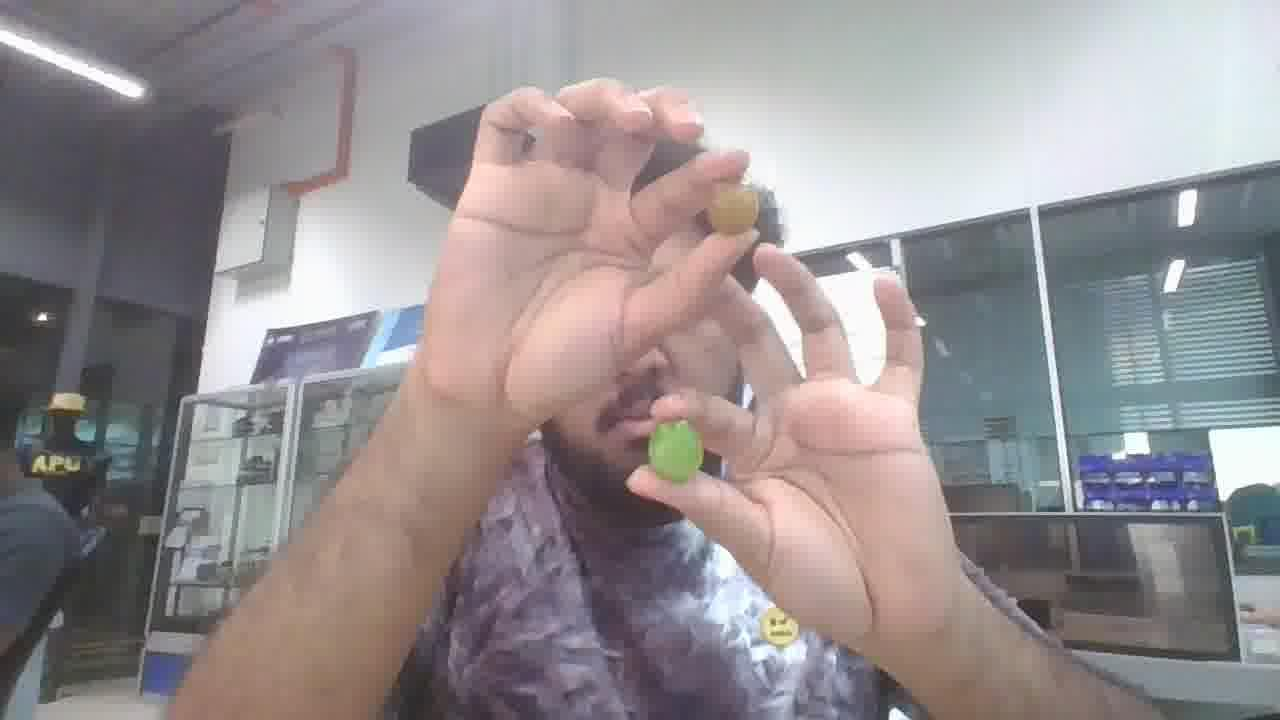green_cherry_tomato: (648, 421, 703, 483)
yellow_cherry_tomato: (707, 185, 759, 234)
